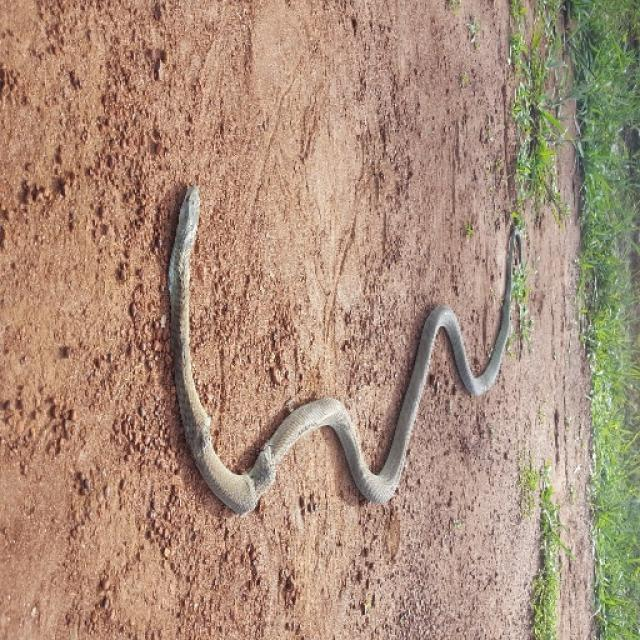snake: (163, 150, 549, 545)
